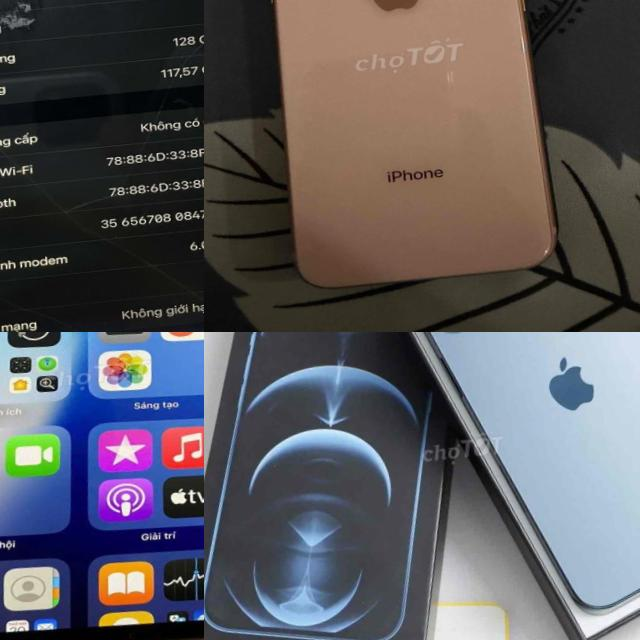physical_damage: (0, 103, 203, 261)
scratch: (512, 2, 542, 128), (0, 0, 55, 43), (532, 236, 557, 258), (439, 64, 461, 86)
